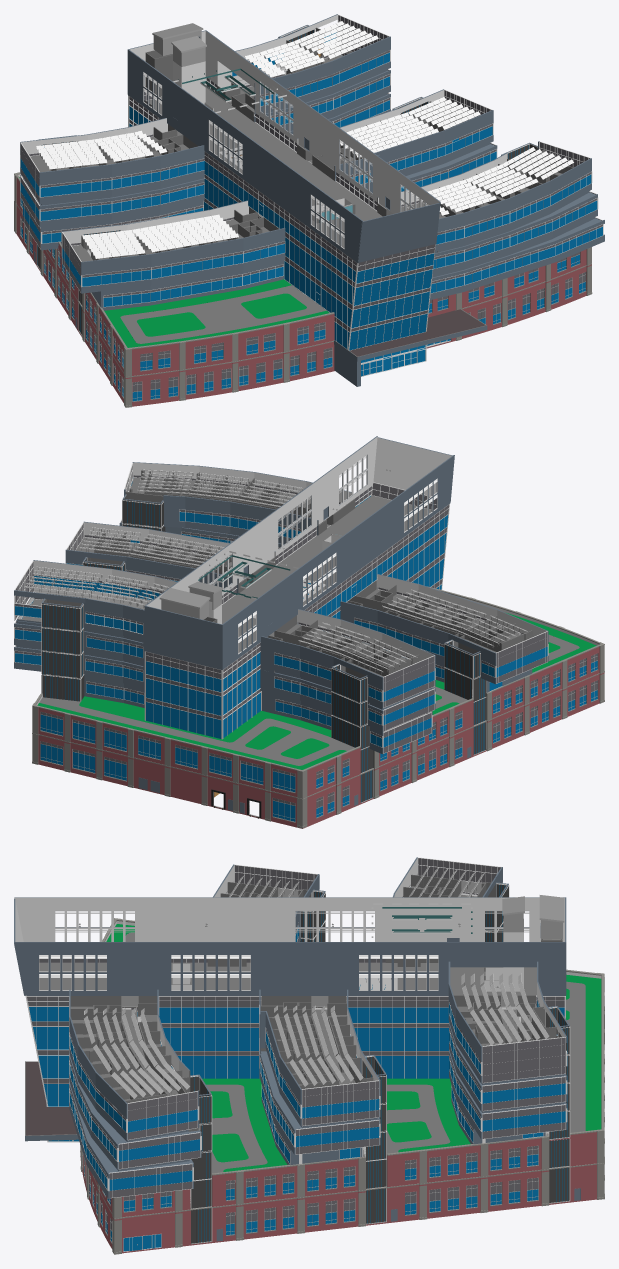
File: arch.glb
3 renders of one model, top to bottom at view 1: azimuth 30°, elevation 25°; view 2: azimuth 150°, elevation 25°; view 3: azimuth 270°, elevation 25°, orthographic. The views are drawn at different scales.
Parts seen in each view (by area): view 1: metal_panel, glass, paint, solar, brick, mullion, spandrel, aluminum, ceiling, grass, pavers, limestone (+6 smaller); view 2: metal_panel, glass, paint, brick, mullion, aluminum, spandrel, channel_glass, solar, ceiling, grass, pavers (+5 smaller); view 3: metal_panel, glass, paint, spandrel, brick, mullion, aluminum, solar, grass, channel_glass, ceiling, pavers (+6 smaller).
Boxes of the visible parts, x1,y1,x2,y2 form: metal_panel: [20, 14, 604, 386]; glass: [20, 32, 602, 401]; paint: [18, 27, 604, 403]; solar: [36, 21, 573, 258]; brick: [14, 172, 591, 406]; mullion: [20, 14, 603, 371]; spandrel: [20, 15, 602, 331]; aluminum: [20, 24, 601, 402]; ceiling: [24, 55, 562, 261]; grass: [19, 177, 329, 347]; pavers: [120, 285, 326, 343]; limestone: [14, 201, 592, 407]; metal_panel: [14, 436, 548, 754]; glass: [15, 481, 597, 821]; paint: [14, 437, 599, 824]; brick: [32, 586, 604, 828]; mullion: [14, 462, 548, 802]; aluminum: [16, 455, 597, 822]; spandrel: [15, 466, 547, 753]; channel_glass: [41, 497, 486, 802]; solar: [24, 469, 527, 671]; ceiling: [22, 477, 520, 732]; grass: [37, 613, 596, 769]; pavers: [39, 634, 579, 765]; metal_panel: [14, 857, 569, 1199]; glass: [29, 926, 565, 1251]; paint: [14, 858, 604, 1252]; spandrel: [27, 858, 565, 1197]; brick: [80, 918, 604, 1253]; mullion: [25, 857, 570, 1251]; aluminum: [39, 869, 564, 1243]; solar: [84, 866, 548, 1098]; grass: [106, 924, 601, 1171]; channel_glass: [190, 884, 569, 1243]; ceiling: [39, 881, 536, 1100]; pavers: [122, 932, 585, 1173].
Bounding box in the file's own units: 102 × 37.94 × 93.41.
